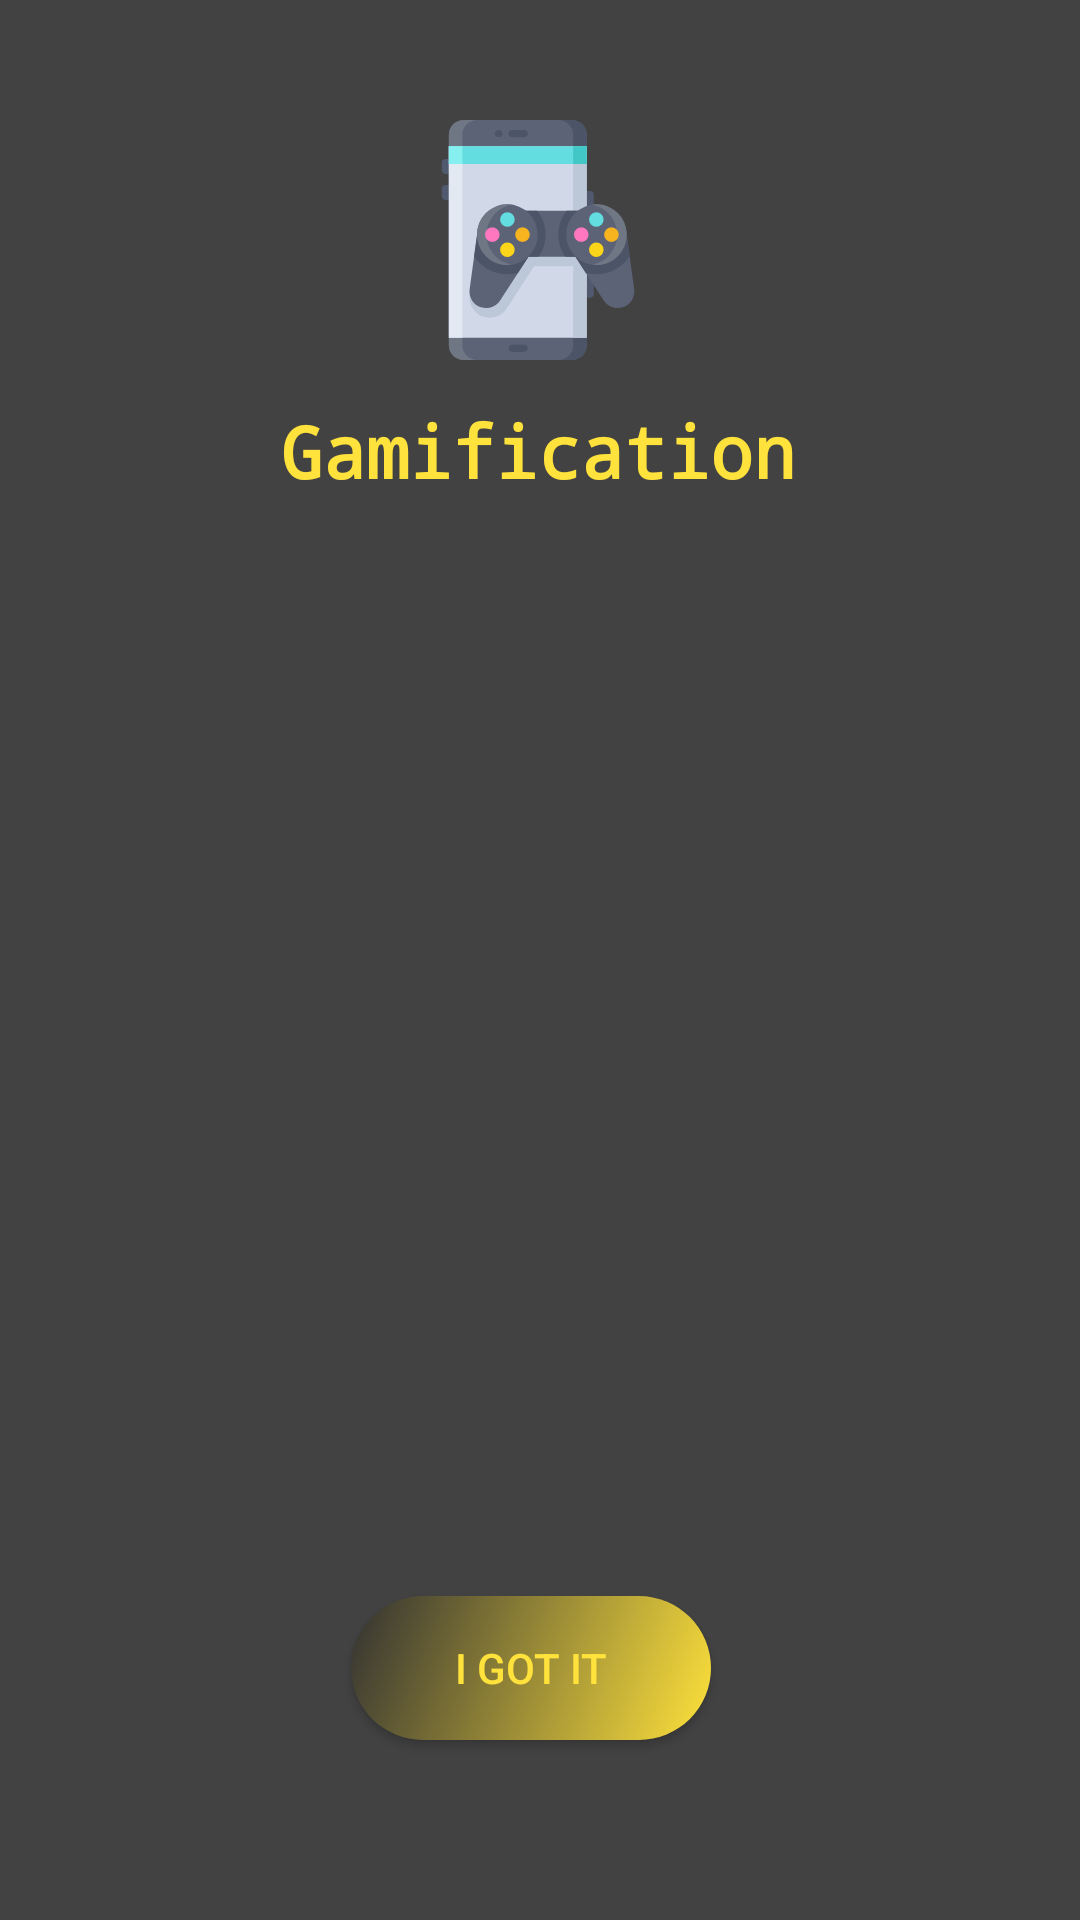

Where to tap for icons on this 1080px x 1920px app screen, as (x=x, y=y):
smartphone: (x=538, y=240)
